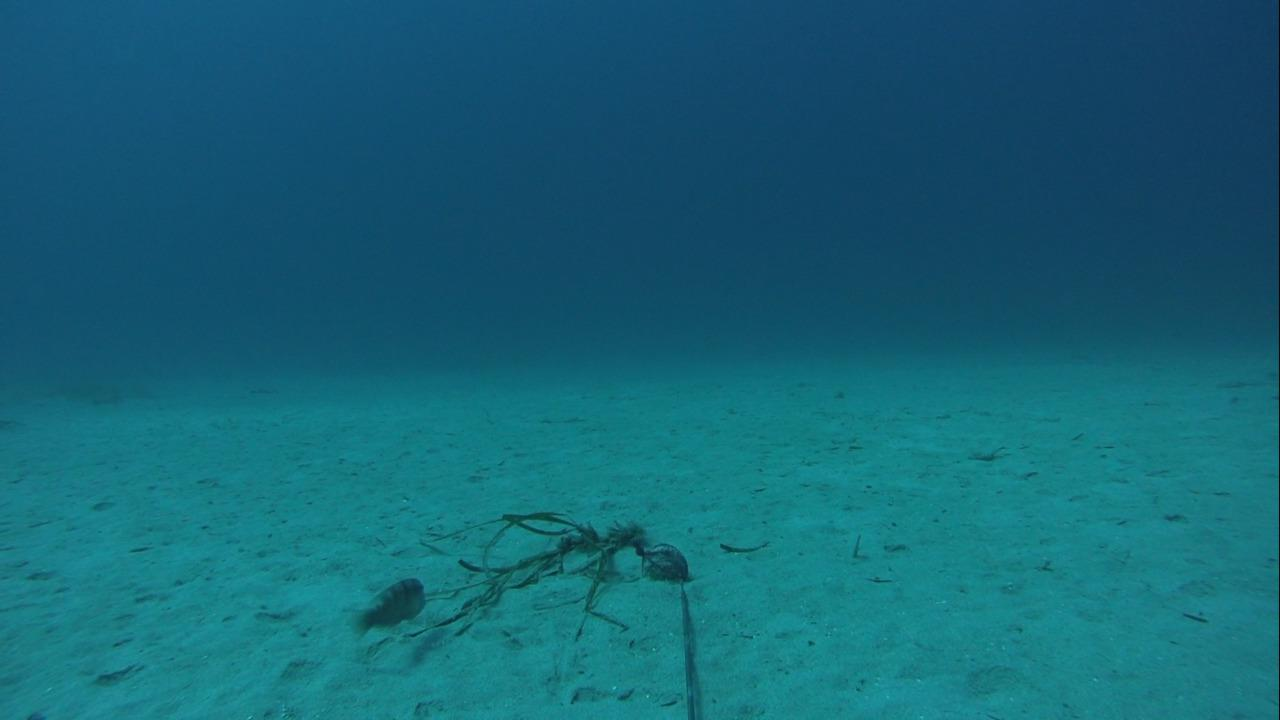raor: (347, 572, 429, 634)
